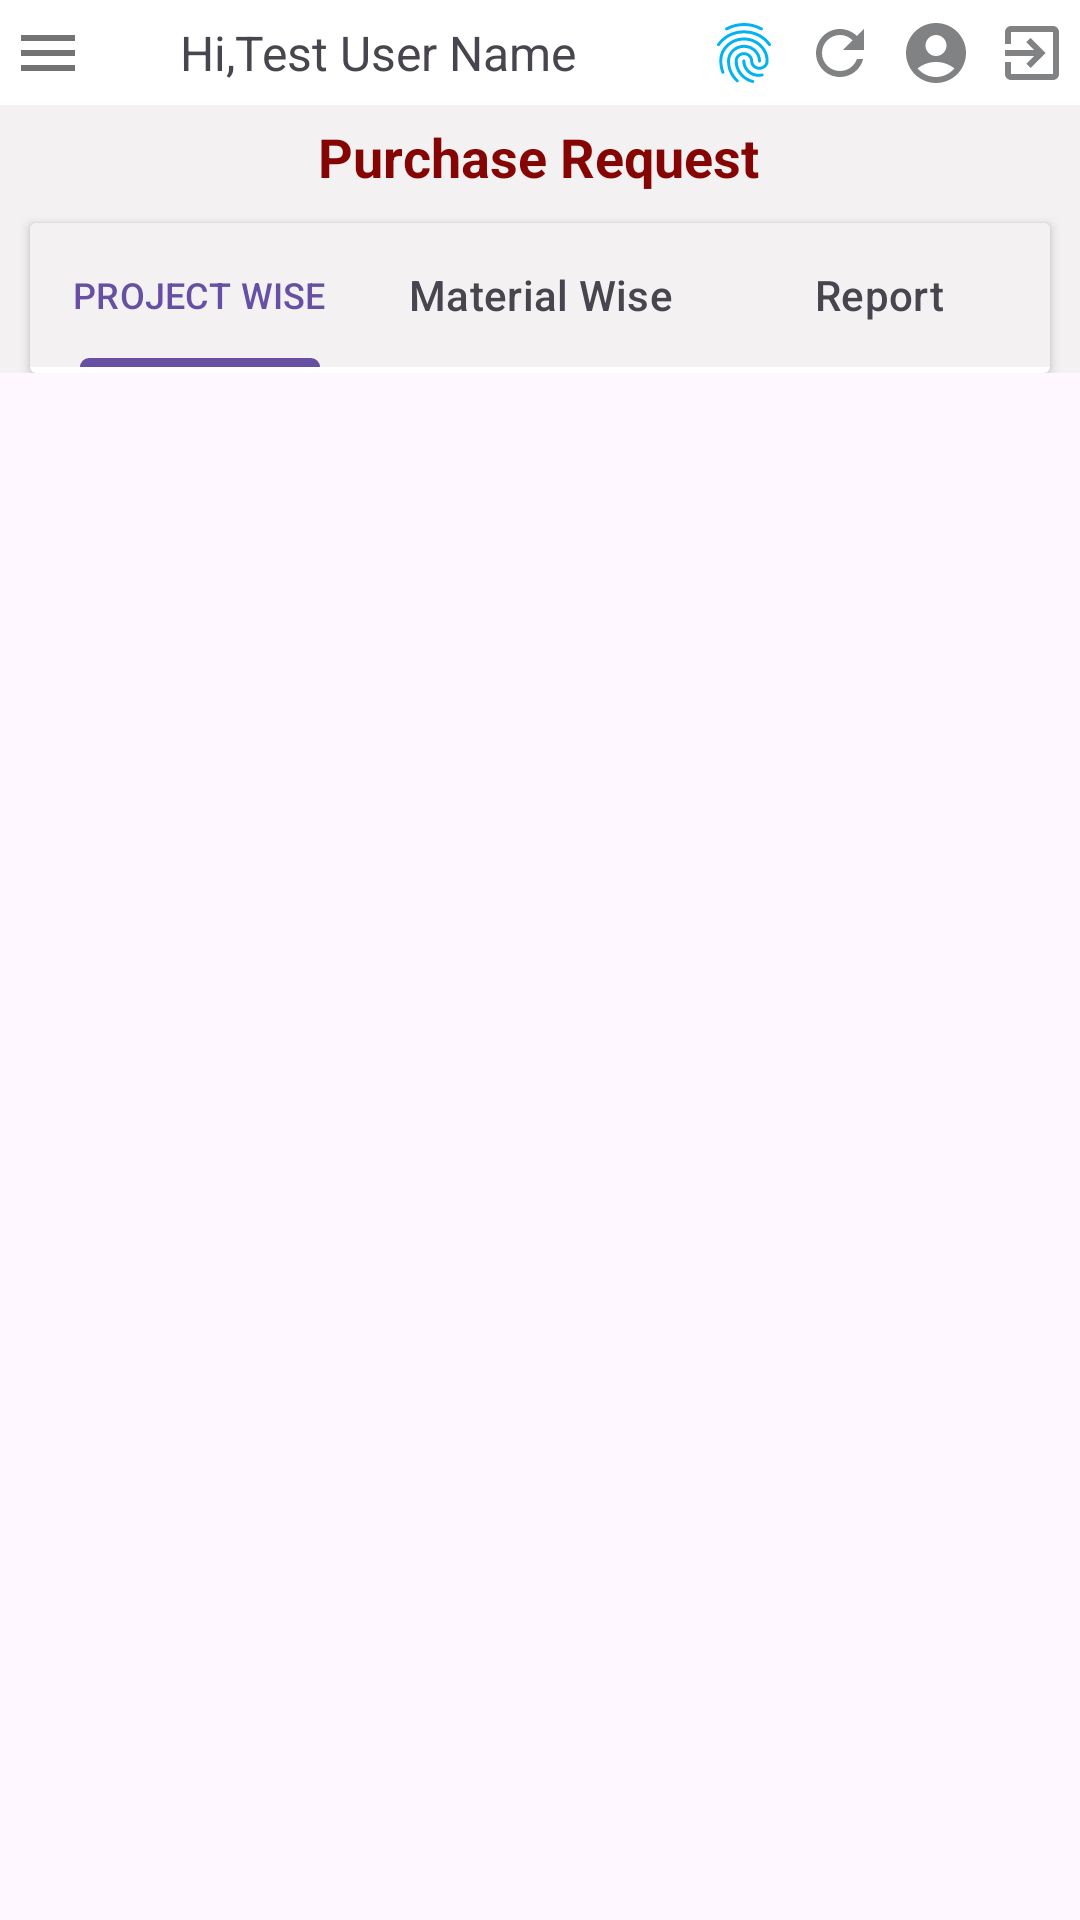

Locate icon controls on the screen. Image size 1080 x 1920, boxes as {"left": x1, "top": y1, "right": x2, "bottom": y2}.
account circle: {"left": 906, "top": 23, "right": 966, "bottom": 83}
exit to app: {"left": 1005, "top": 26, "right": 1059, "bottom": 80}
fingerprint: {"left": 717, "top": 23, "right": 771, "bottom": 83}
menu: {"left": 21, "top": 35, "right": 75, "bottom": 71}
refresh: {"left": 816, "top": 29, "right": 864, "bottom": 77}
